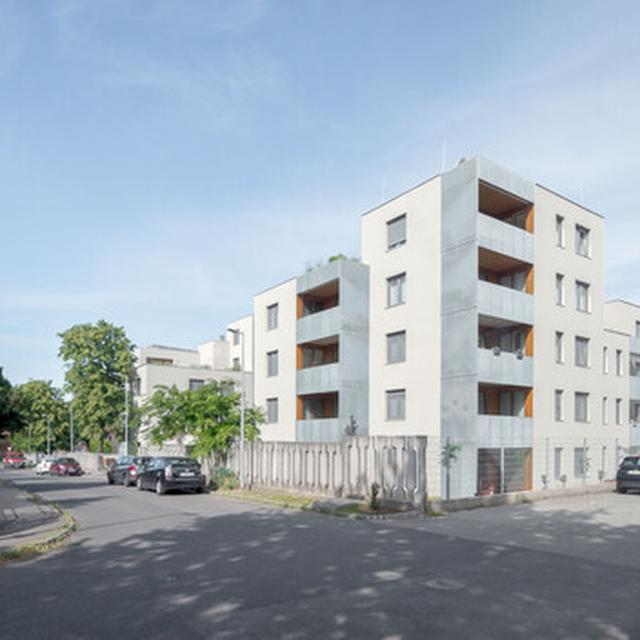building: (257, 152, 640, 496), (130, 312, 255, 463)
